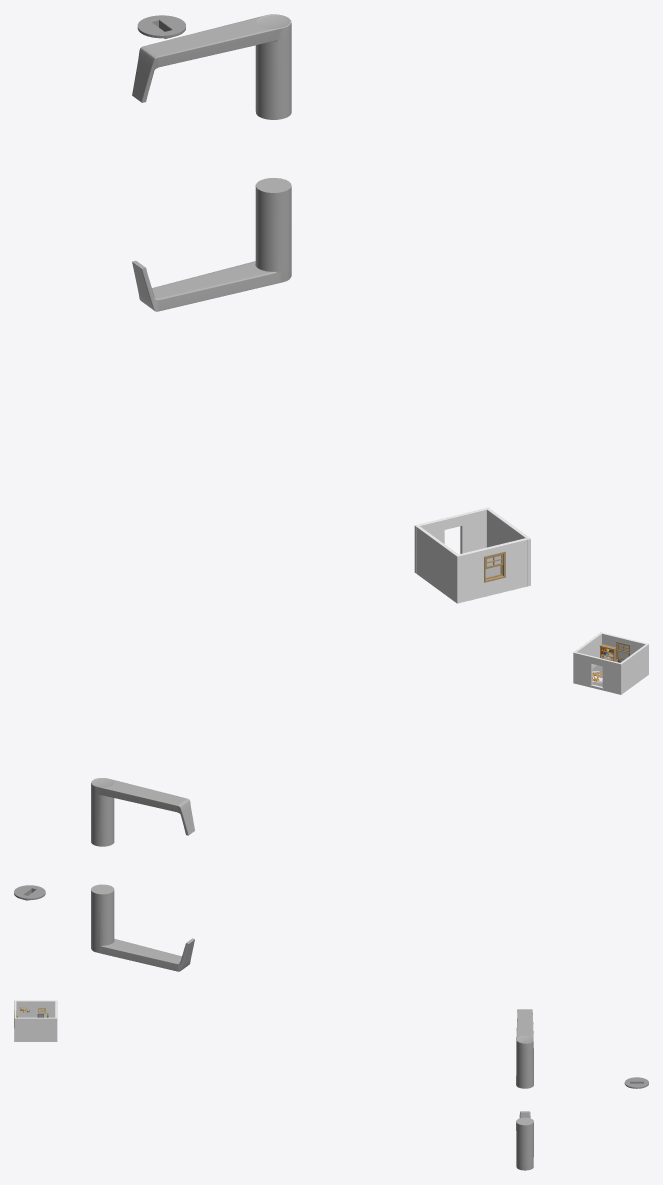
The model's file is Another bedroom.fbx.
3 views of the same model, one above another, from view 1: azimuth 30°, elevation 25°; view 2: azimuth 150°, elevation 25°; view 3: azimuth 270°, elevation 25° (orthographic). The views are drawn at different scales.
Visible parts, largest first — view 1: DoorHandle, Wall, Wall.001, KeyHole; view 2: DoorHandle, Wall.001, Wall; view 3: DoorHandle, Wall.001, Wall.
Boxes of the visible parts, bbox=[...] form: DoorHandle: bbox=[132, 14, 291, 311]; Wall: bbox=[416, 526, 527, 603]; Wall.001: bbox=[414, 507, 530, 586]; KeyHole: bbox=[137, 15, 185, 38]; DoorHandle: bbox=[91, 778, 194, 971]; Wall.001: bbox=[573, 632, 622, 694]; Wall: bbox=[602, 633, 648, 693]; DoorHandle: bbox=[516, 1009, 533, 1170]; Wall.001: bbox=[14, 1000, 57, 1041]; Wall: bbox=[14, 1000, 55, 1017].
Bounding box in the file's own units: 41.39 × 28.93 × 131.
